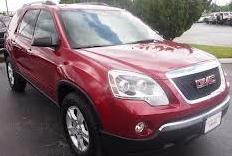front_view: (102, 56, 231, 147)
headlight: (101, 66, 178, 106)
side_glass: (20, 7, 72, 54)
